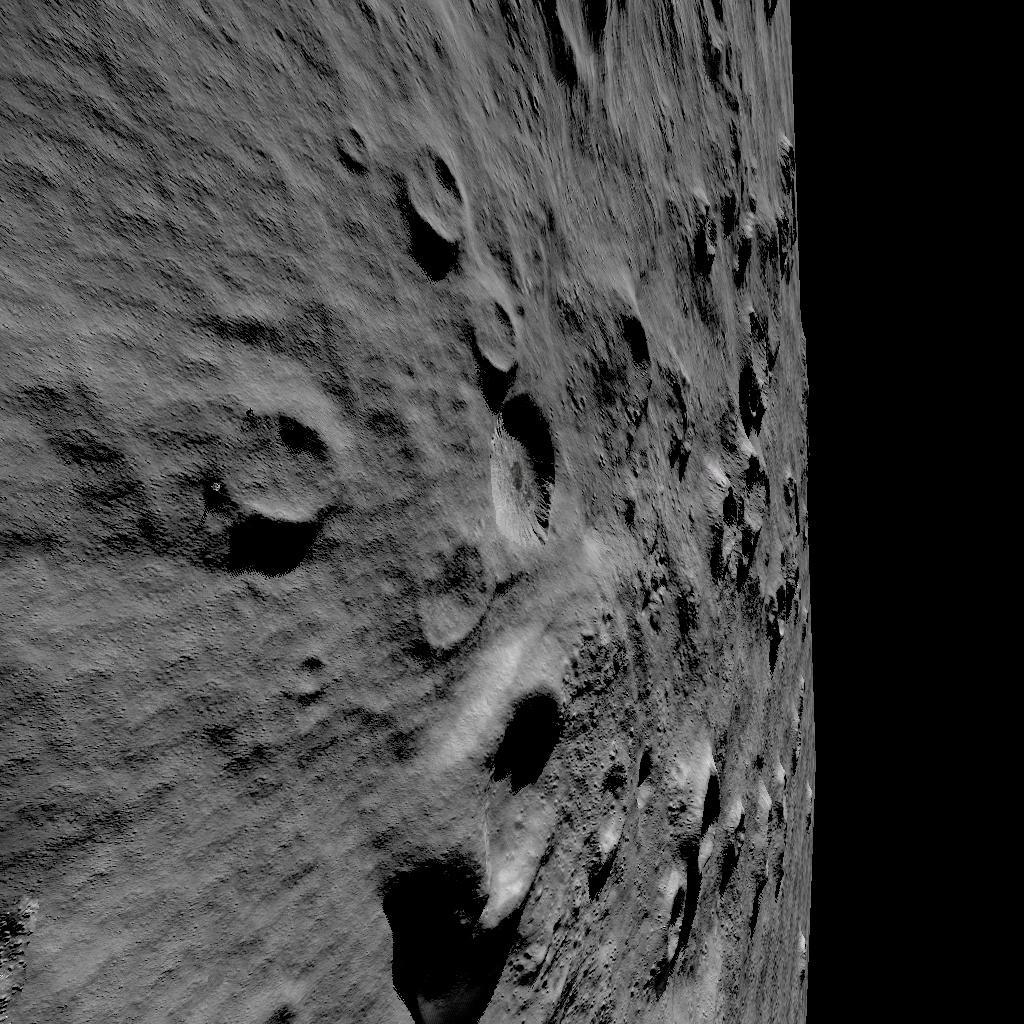Crater: (383, 622, 578, 982), (398, 148, 556, 546), (594, 738, 810, 996), (706, 312, 800, 652), (476, 0, 778, 100), (584, 305, 678, 500), (214, 410, 336, 535), (681, 158, 793, 288)
Plan surface: (0, 0, 386, 395), (54, 565, 370, 1024), (0, 422, 198, 542)
